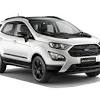Ford: (1, 14, 100, 82)
